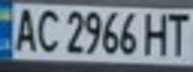2: (60, 7, 84, 55)
6: (118, 9, 142, 56), (100, 9, 124, 55)
9: (81, 8, 103, 55)
A: (9, 5, 39, 53)
C: (33, 6, 63, 54)
H: (139, 9, 172, 56)
T: (163, 9, 193, 57)
